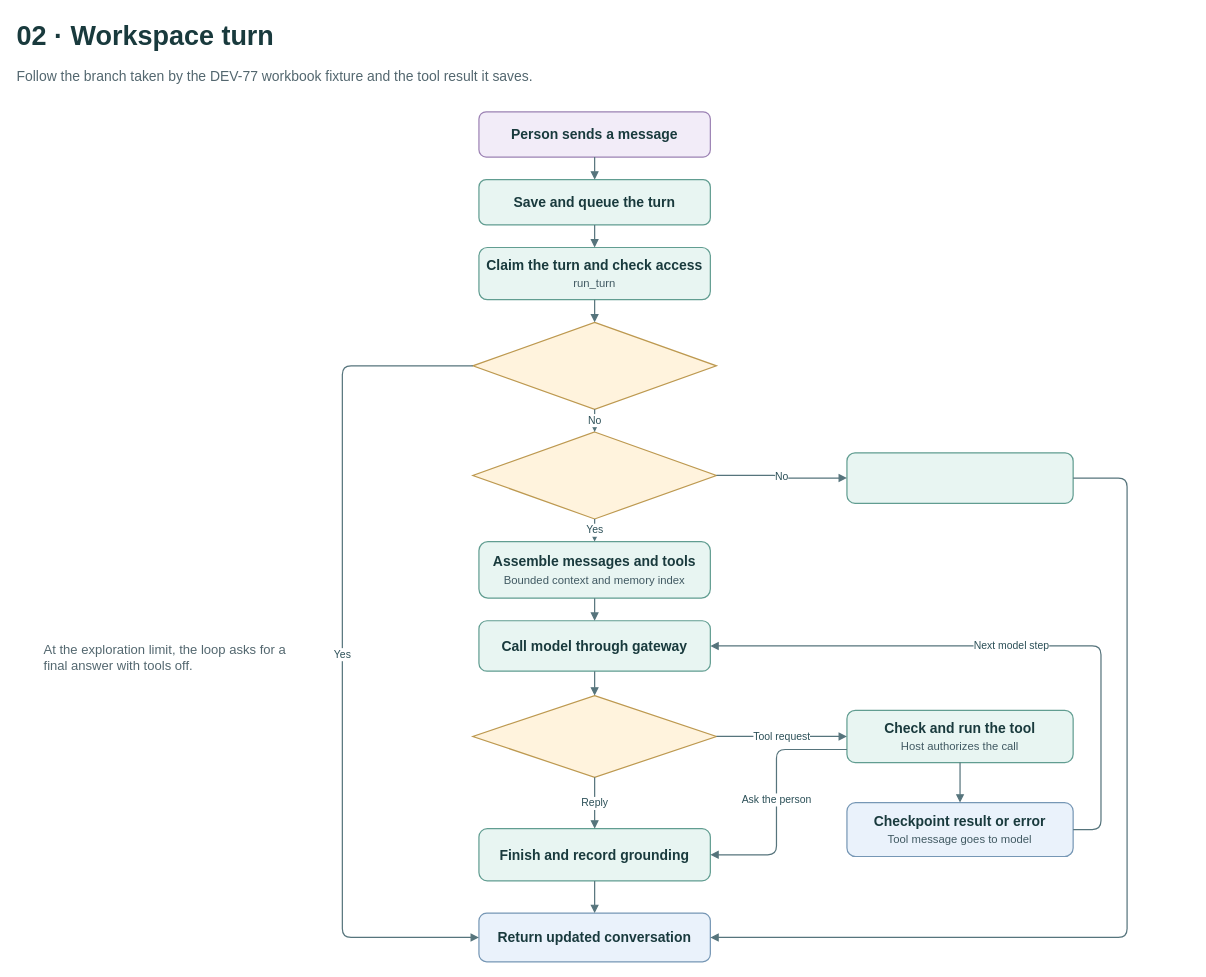
The diagram is 1206 pixels wide and 977 high, and some of its shapes have lost their labels. Each missing label, with the centre of its shape:
"Demo or direct answer?" goes at [594,365].
"Model response Reply or tool request" goes at [594,736].
"Tool loop enabled? And no existing workflow" goes at [594,475].
"Typed planner and FlowService" goes at [959,477].
